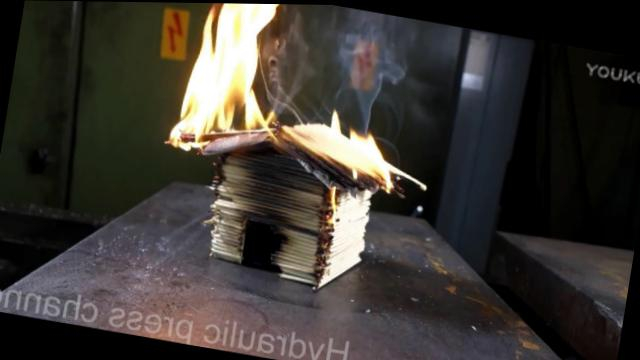fire: (178, 2, 286, 146), (320, 108, 400, 180)
